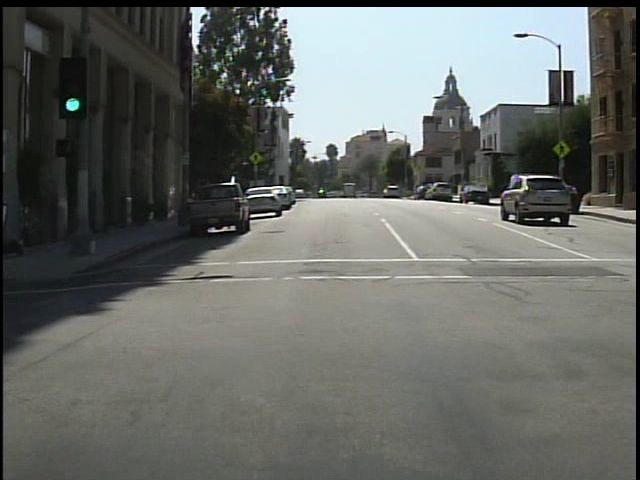person: (3, 162, 13, 273)
